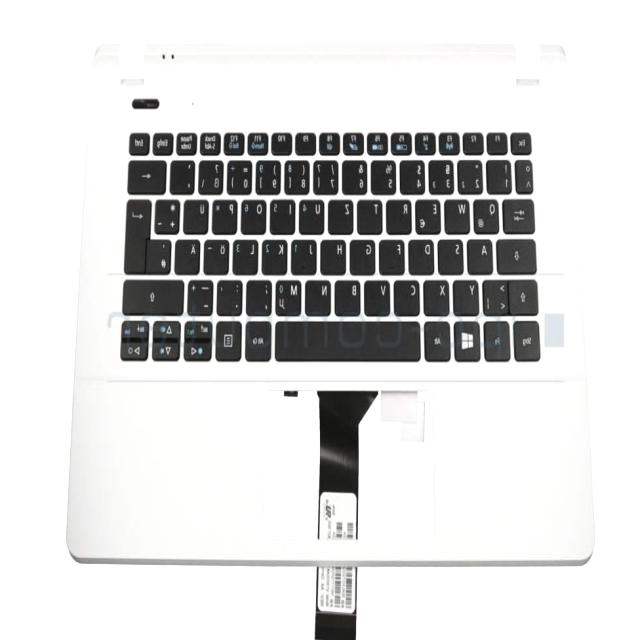0: (226, 160, 254, 196)
1: (487, 158, 513, 194)
2: (458, 159, 484, 195)
3: (428, 159, 455, 195)
4: (400, 160, 427, 196)
5: (371, 160, 398, 196)
6: (342, 160, 369, 196)
7: (313, 160, 340, 196)
8: (284, 160, 311, 196)
9: (255, 160, 283, 196)
a: (467, 237, 494, 275)
accent: (169, 159, 197, 195)
ae: (174, 237, 202, 275)
alt-left: (424, 319, 453, 363)
altgr-right: (245, 318, 273, 364)
b: (334, 279, 362, 317)
c: (393, 279, 421, 317)
caret: (516, 158, 534, 194)
comma: (246, 279, 274, 315)
d: (409, 238, 436, 276)
del: (128, 159, 168, 193)
e: (415, 197, 443, 235)
enter: (126, 197, 154, 274)
f: (378, 238, 406, 276)
g: (350, 238, 378, 276)
h: (320, 238, 348, 276)
hash: (147, 237, 173, 275)
i: (270, 198, 298, 236)
j: (291, 237, 319, 275)
k: (261, 237, 289, 275)
keyboard: (110, 118, 546, 382)
l: (232, 237, 260, 275)
less: (482, 279, 509, 317)
m: (275, 279, 303, 315)
minus: (187, 279, 215, 317)
n: (305, 279, 333, 315)
o: (241, 198, 268, 236)
oe: (203, 237, 231, 275)
p: (212, 198, 239, 236)
plus: (154, 198, 182, 236)
point: (217, 279, 245, 317)
q: (474, 198, 500, 236)
r: (386, 198, 413, 236)
s: (438, 238, 465, 274)
shift-left: (509, 279, 539, 315)
shift-lock: (496, 236, 538, 276)
shift-right: (124, 277, 186, 317)
space: (273, 318, 423, 364)
ss: (198, 159, 224, 195)
strg-left: (514, 318, 542, 362)
t: (357, 198, 385, 236)
tab: (502, 198, 536, 236)
u: (298, 198, 326, 236)
ue: (183, 198, 211, 236)
v: (364, 279, 392, 317)
w: (444, 197, 471, 235)
x: (423, 279, 451, 317)
y: (453, 279, 480, 317)
z: (328, 198, 355, 236)
